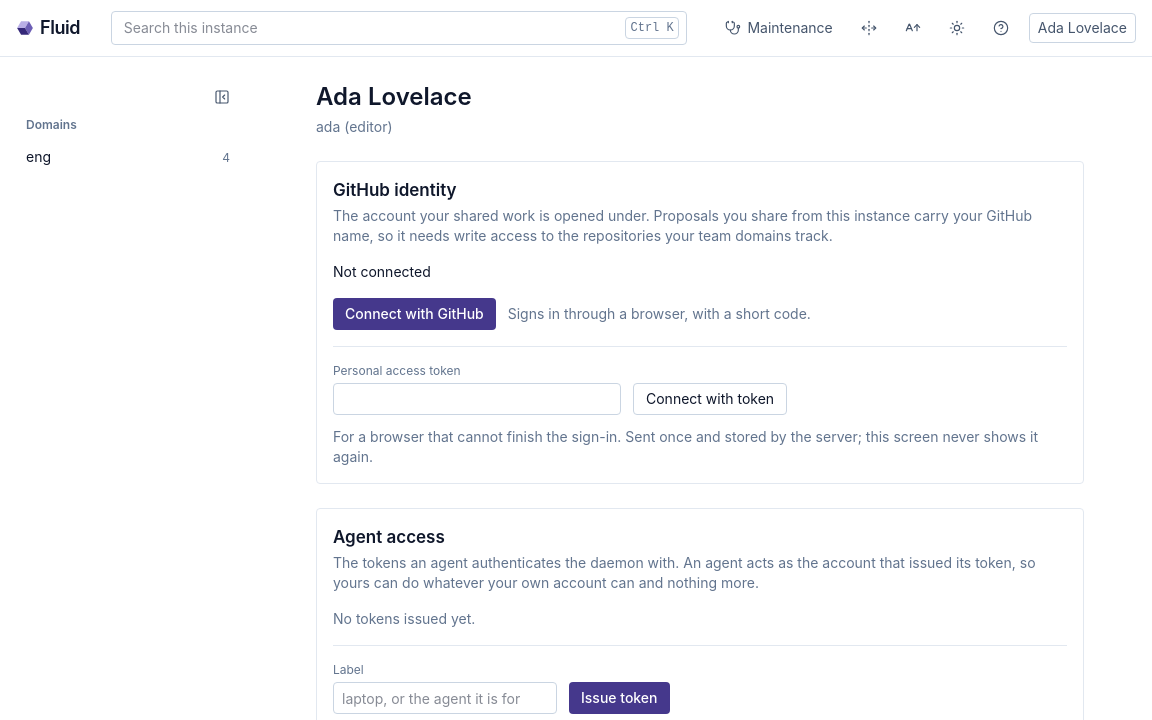
the agent access card › issues a token, reveals it exactly once, and never again after it is dismissed
The width and height of the screenshot is (1152, 720).
Type "laptop" into the field labelled "Label" at (445, 698), box top-left (333, 682), bottom-right (557, 714)
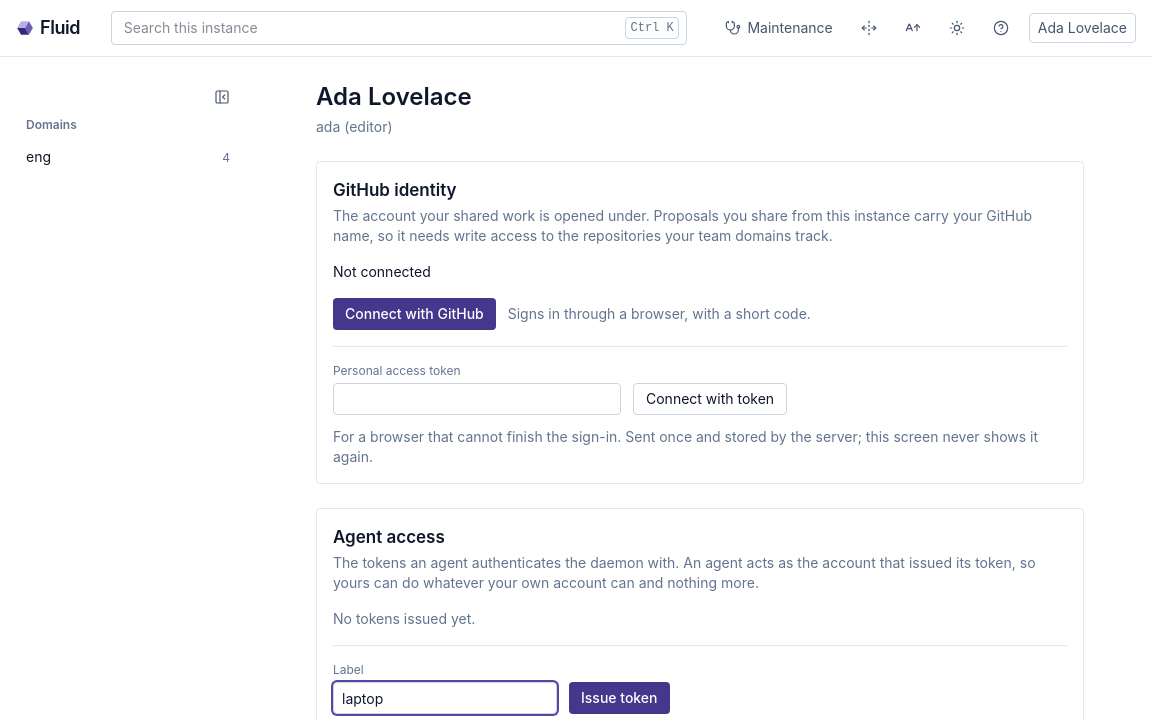
Click the button "Issue token" at (619, 698), box top-left (569, 682), bottom-right (670, 714)
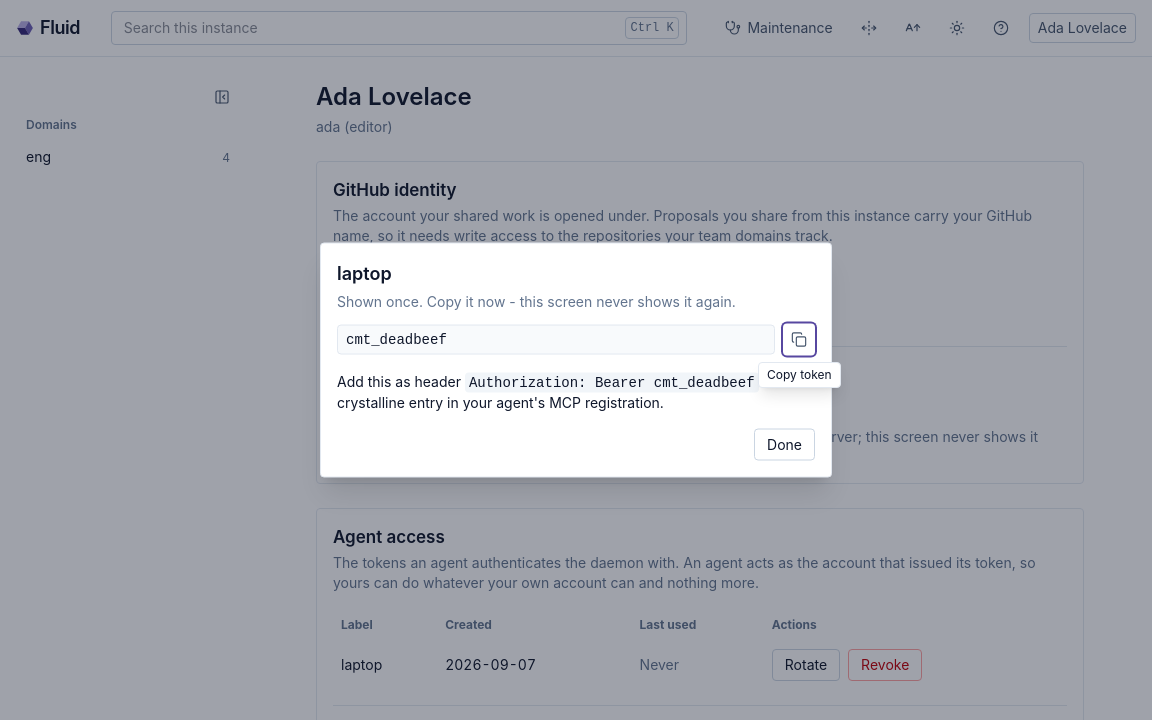
Check: the text "cmt_deadbeef" is shown, box top-left (337, 324), bottom-right (775, 354)
Click the button "Done" at (785, 444), box top-left (754, 428), bottom-right (815, 460)
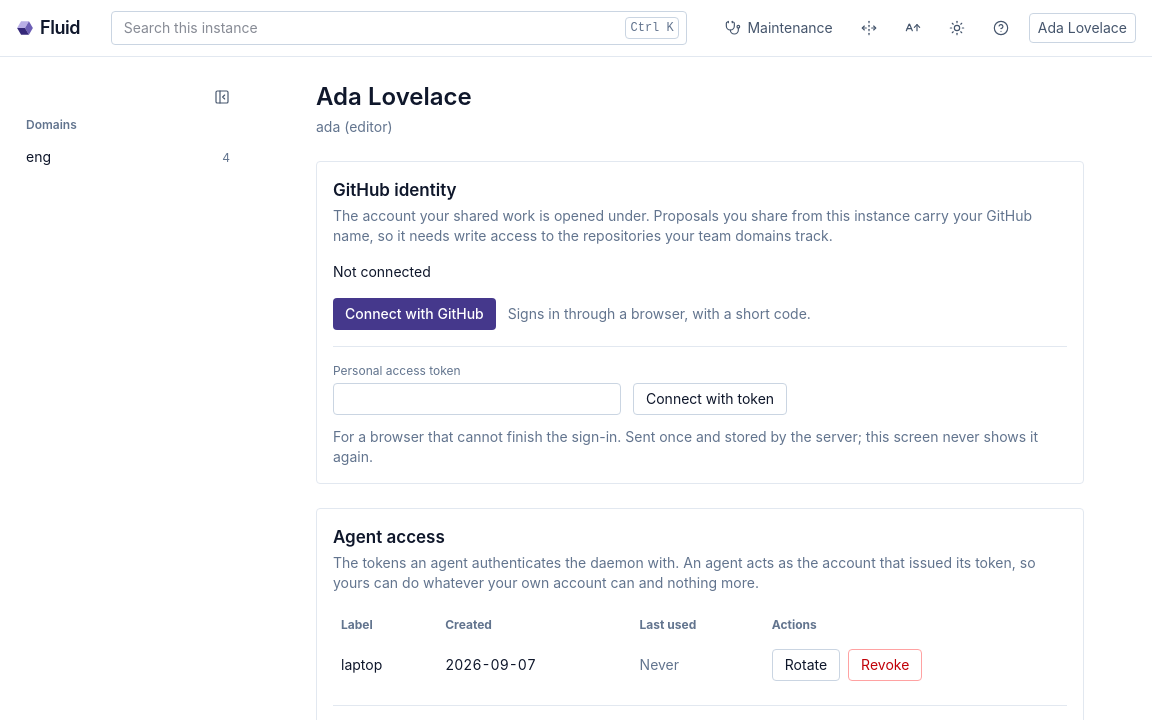
Check: the text "laptop" is shown, box top-left (341, 656), bottom-right (382, 673)
Check: the dialog is gone
Check: the text "cmt_deadbeef" is gone
